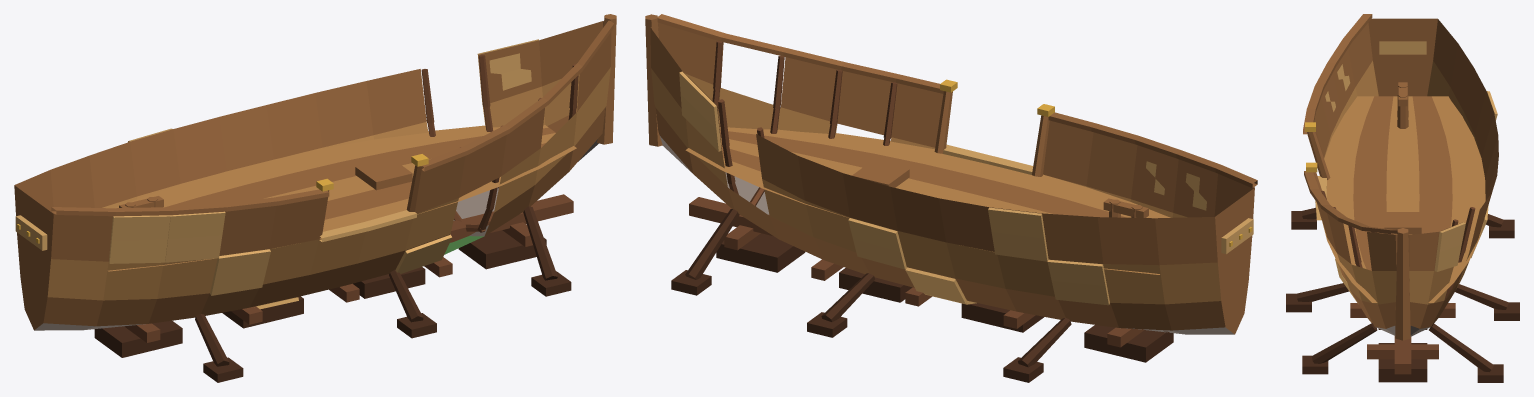
The model's file is ship_hull_repair_2.glb.
3 renders of one model, left to right at view 1: azimuth 30°, elevation 25°; view 2: azimuth 150°, elevation 25°; view 3: azimuth 270°, elevation 25°, orthographic. The views are drawn at different scales.
Visible parts, largest first — view 1: Hull_Strake_4_Star.002, Hull_Strake_3_Port.002, Hull_Strake_4_Port.002, Hull_Strake_2_Port.002, Deck_Strip_5.002, Deck_Strip_4.002, Transom_Panel.002, Hull_Strake_3_Star.002, Rail_Port_Top, Rail_Port_Edge_2, Deck_Strip_1.002, Cradle_Block_1.002 (+25 smaller); view 2: Hull_Strake_4_Port.002, Hull_Strake_4_Star.002, Hull_Strake_3_Star.002, Hull_Strake_2_Star.002, Deck_Strip_1.002, Deck_Strip_2.002, Hull_Strake_3_Port.002, Transom_Panel.002, Rail_Port_Top, Rail_Port_Edge_1, Deck_Strip_3.002, Cradle_Block_4.002 (+29 smaller); view 3: Hull_Strake_4_Star.002, Hull_Strake_4_Port.002, Deck_Strip_2.002, Deck_Strip_5.002, Transom_Panel.002, Deck_Strip_4.002, Deck_Strip_1.002, Deck_Strip_3.002, Hull_Strake_3_Port.002, Hull_Strake_3_Star.002, Rail_Port_Top, Stem_Post.002 (+26 smaller).
Part boxes in pixels (box(x1,y1,x2,y2)): Hull_Strake_4_Star.002: box(14, 21, 603, 213); Hull_Strake_3_Port.002: box(47, 67, 610, 300); Hull_Strake_4_Port.002: box(51, 32, 611, 261); Hull_Strake_2_Port.002: box(43, 107, 605, 326); Deck_Strip_5.002: box(115, 125, 548, 208); Deck_Strip_4.002: box(165, 127, 555, 207); Transom_Panel.002: box(14, 185, 53, 330); Hull_Strake_3_Star.002: box(102, 74, 579, 208); Rail_Port_Top: box(52, 20, 613, 211); Rail_Port_Edge_2: box(56, 24, 613, 216); Deck_Strip_1.002: box(108, 146, 576, 271); Cradle_Block_1.002: box(94, 320, 182, 357); Hull_Strake_4_Port.002: box(658, 23, 1254, 217); Hull_Strake_4_Star.002: box(650, 28, 1217, 265); Hull_Strake_3_Star.002: box(651, 68, 1221, 304); Hull_Strake_2_Star.002: box(655, 108, 1225, 330); Deck_Strip_1.002: box(719, 127, 1170, 218); Deck_Strip_2.002: box(720, 130, 1126, 217); Hull_Strake_3_Port.002: box(685, 73, 1187, 217); Transom_Panel.002: box(1215, 188, 1254, 334); Rail_Port_Top: box(657, 14, 1257, 183); Rail_Port_Edge_1: box(657, 18, 1252, 188); Deck_Strip_3.002: box(720, 138, 1053, 214); Cradle_Block_4.002: box(716, 233, 805, 272); Hull_Strake_4_Star.002: box(1409, 19, 1498, 270); Hull_Strake_4_Port.002: box(1307, 23, 1396, 270); Deck_Strip_2.002: box(1353, 96, 1393, 270); Deck_Strip_5.002: box(1428, 96, 1485, 302); Transom_Panel.002: box(1368, 18, 1437, 96); Deck_Strip_4.002: box(1412, 96, 1452, 233); Deck_Strip_1.002: box(1322, 96, 1377, 302); Deck_Strip_3.002: box(1386, 96, 1419, 234); Hull_Strake_3_Port.002: box(1324, 61, 1396, 304); Hull_Strake_3_Star.002: box(1409, 61, 1483, 304); Rail_Port_Top: box(1303, 14, 1397, 230); Stem_Post.002: box(1395, 228, 1410, 340).
Size of the model in its own units: 10.68 by 3.63 by 4.14.
